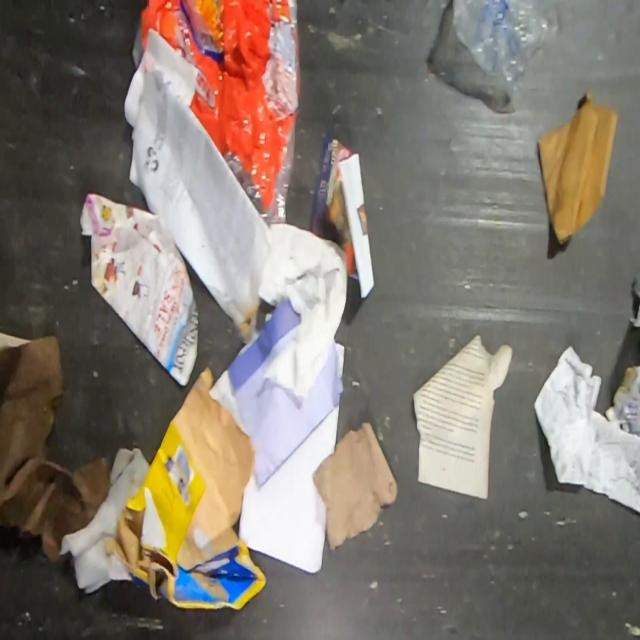cardboard: (103, 366, 267, 610), (0, 330, 111, 564), (538, 90, 618, 244)
soft_plastic: (130, 0, 300, 228), (452, 0, 561, 112)
